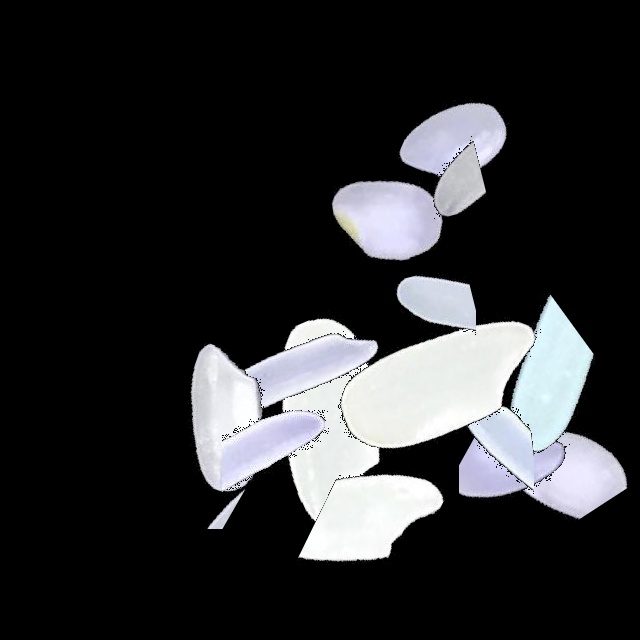Broken: (459, 361, 621, 611), (469, 319, 628, 569), (438, 259, 597, 509), (267, 461, 517, 612), (222, 338, 363, 588), (404, 344, 534, 594), (346, 193, 476, 443), (299, 122, 549, 235), (66, 422, 316, 529)
Full: (204, 291, 454, 541), (307, 255, 557, 505), (163, 251, 413, 501), (97, 296, 347, 546), (262, 96, 512, 346), (329, 13, 579, 263)
